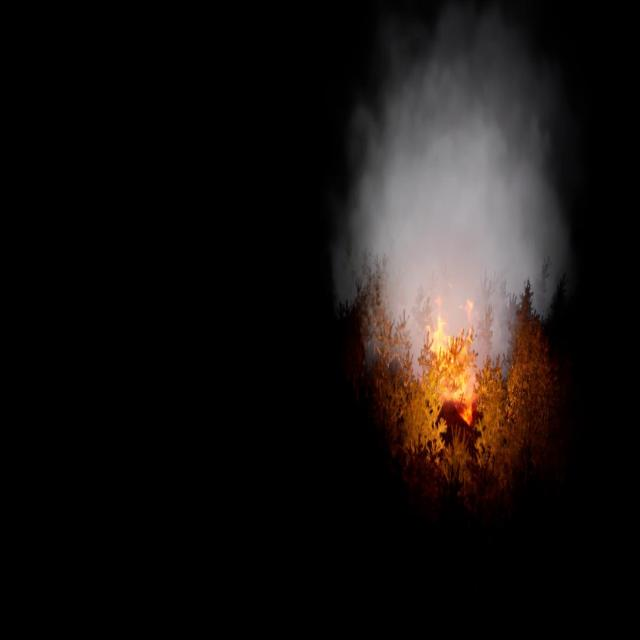fire: (422, 290, 478, 421)
smoke: (328, 0, 574, 391)
